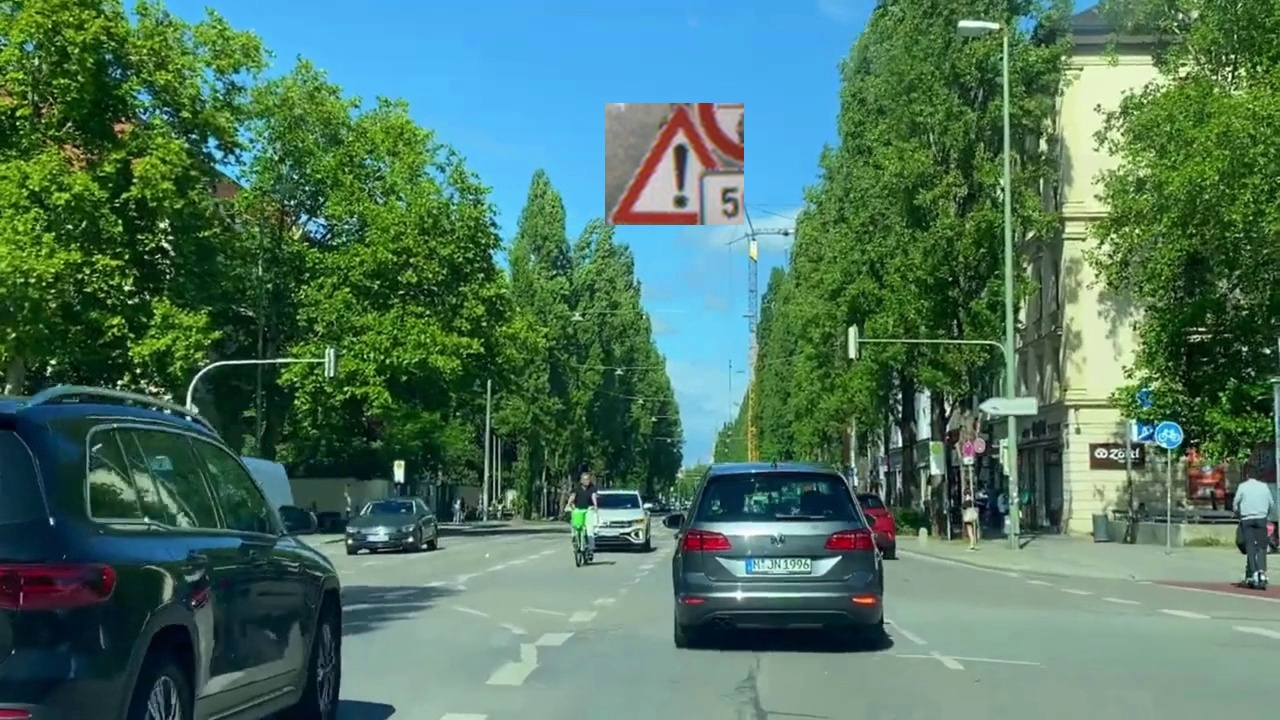Caution: (605, 103, 744, 225)
